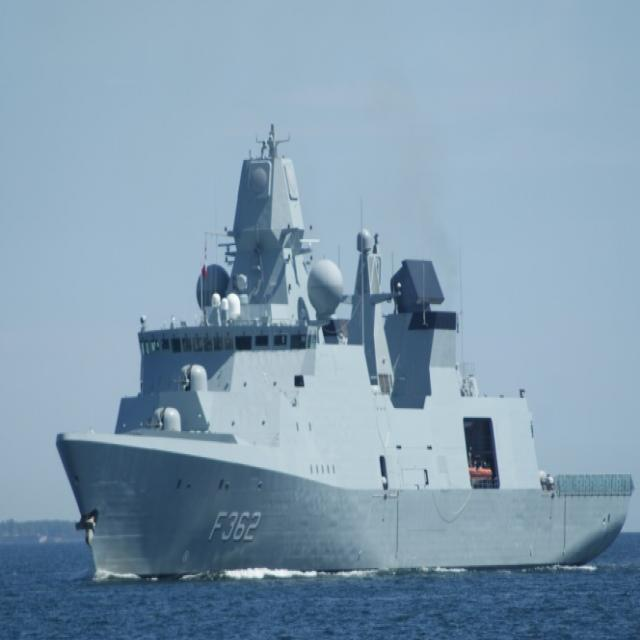Fragata: (49, 131, 638, 593)
